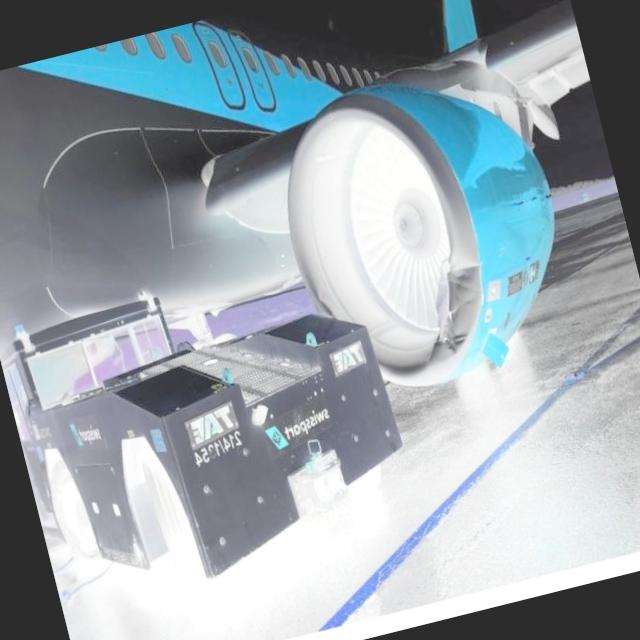crack: (418, 257, 471, 341)
dent: (447, 263, 487, 308), (438, 331, 473, 363), (310, 286, 334, 318)
